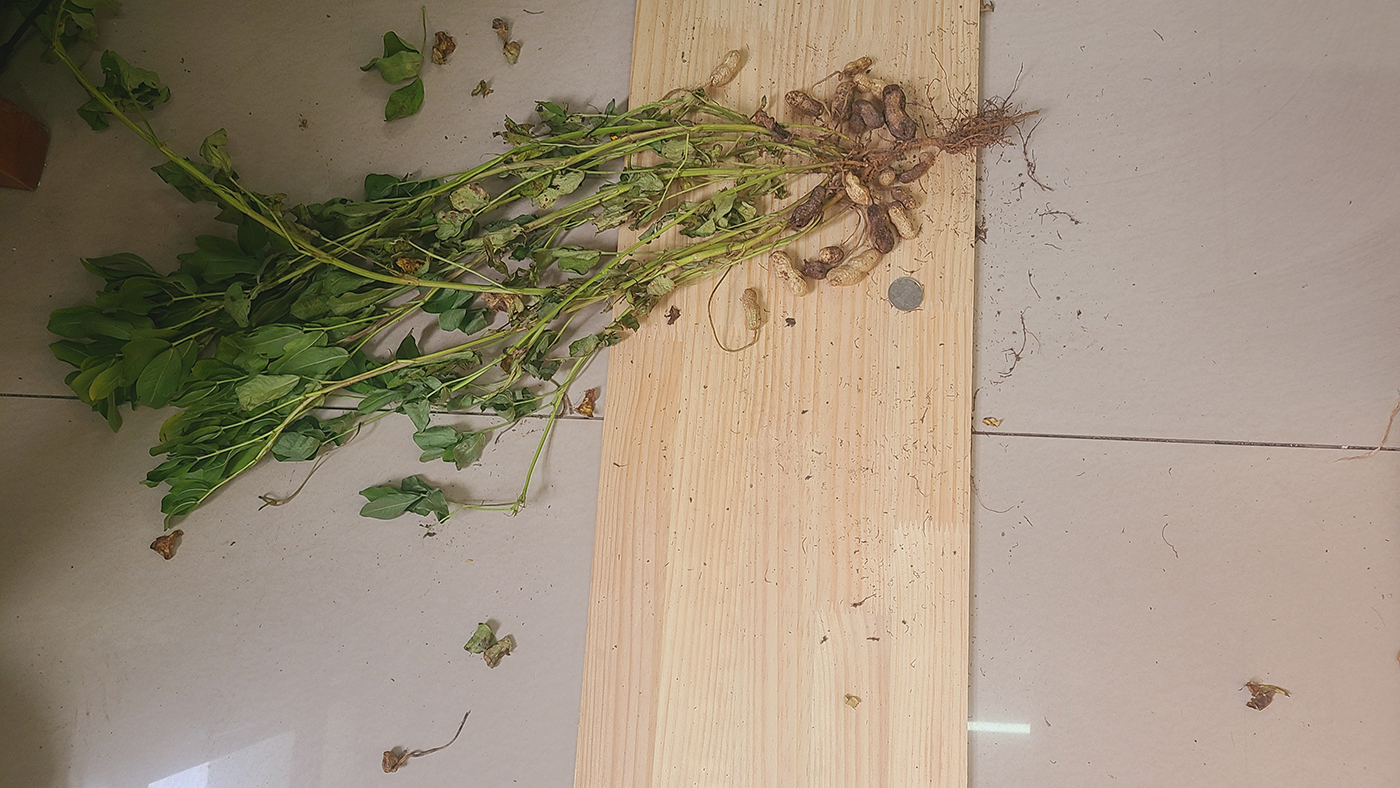h: (827, 249, 881, 286), (770, 249, 809, 297), (709, 49, 741, 87), (888, 201, 915, 239), (844, 171, 873, 206), (741, 288, 761, 331), (854, 73, 884, 99), (890, 186, 917, 210), (843, 56, 871, 77), (877, 168, 895, 190)
l: (882, 84, 917, 140), (789, 185, 826, 229), (864, 206, 895, 253), (756, 109, 791, 142), (785, 90, 823, 117), (831, 81, 855, 119), (856, 98, 884, 129), (899, 162, 929, 184), (801, 258, 827, 280), (819, 246, 845, 265), (849, 114, 866, 132)
